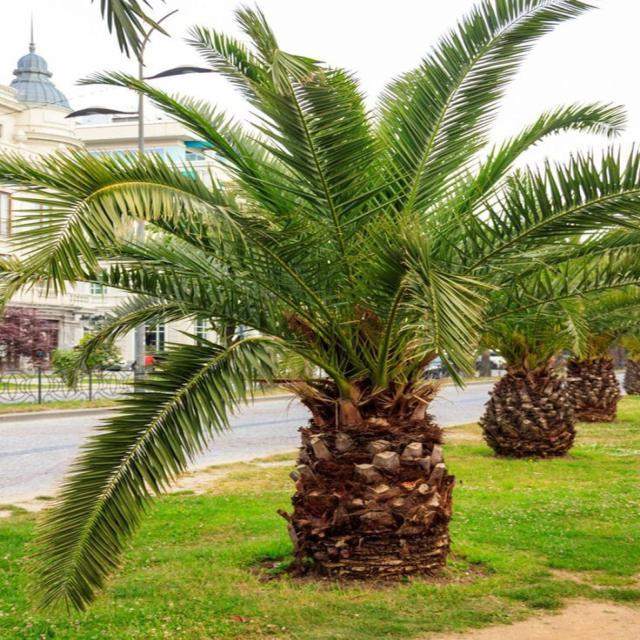Coconut-tree: (2, 32, 537, 584), (466, 118, 616, 502)
